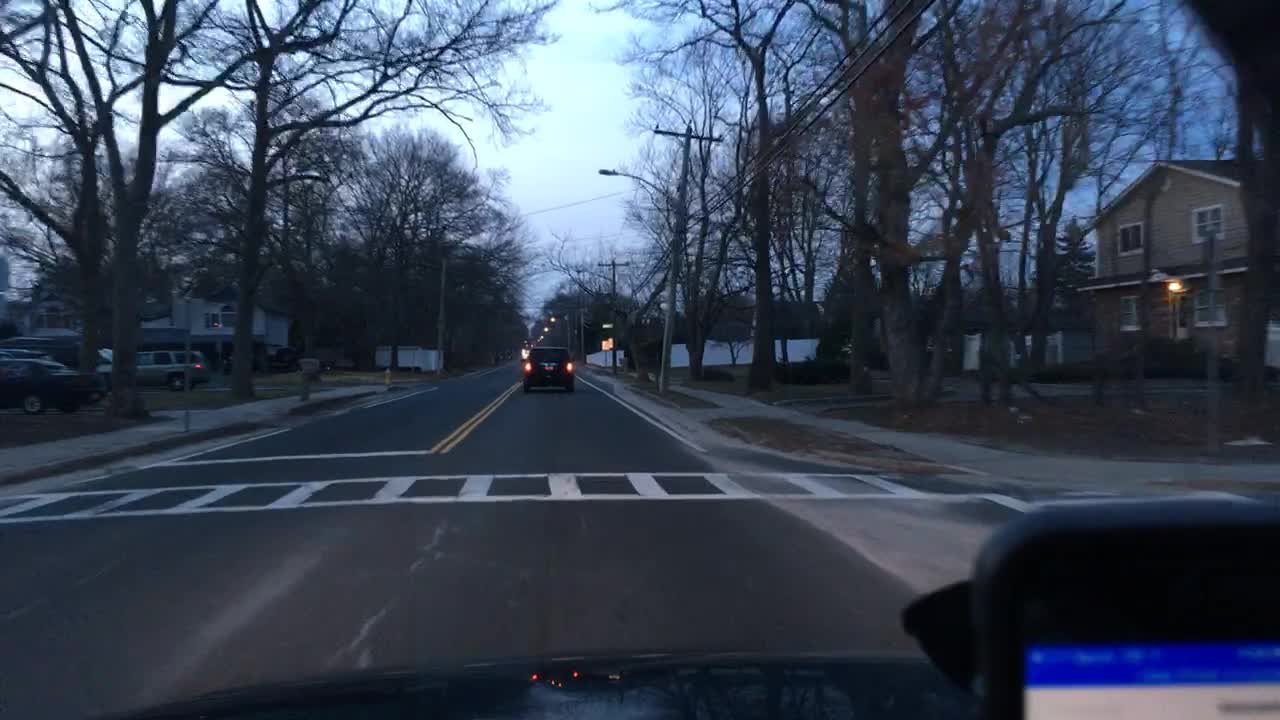car: (1, 334, 112, 398), (0, 348, 96, 415), (136, 346, 208, 388), (520, 346, 573, 391)
traffic sign: (598, 322, 613, 329), (603, 336, 611, 349), (601, 338, 606, 351)
